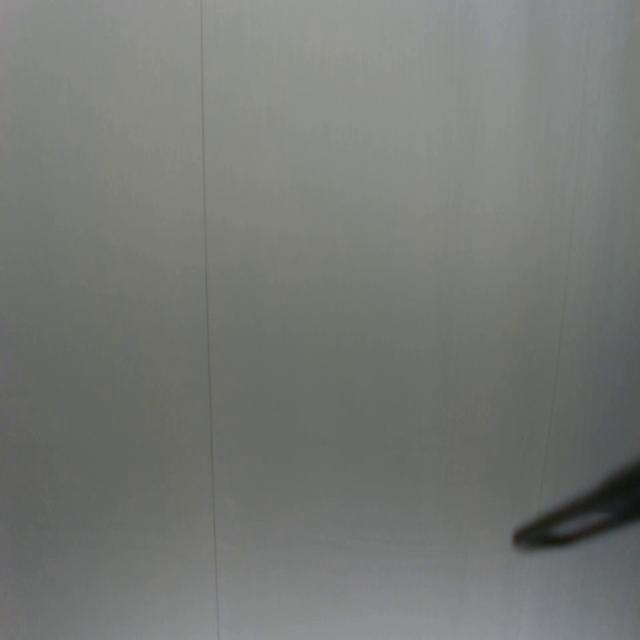crease: (538, 0, 592, 503), (199, 1, 223, 640)
